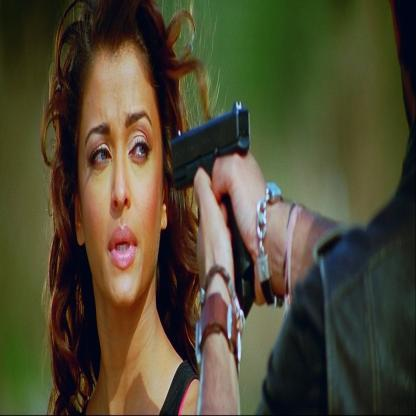gun: (162, 91, 256, 195)
